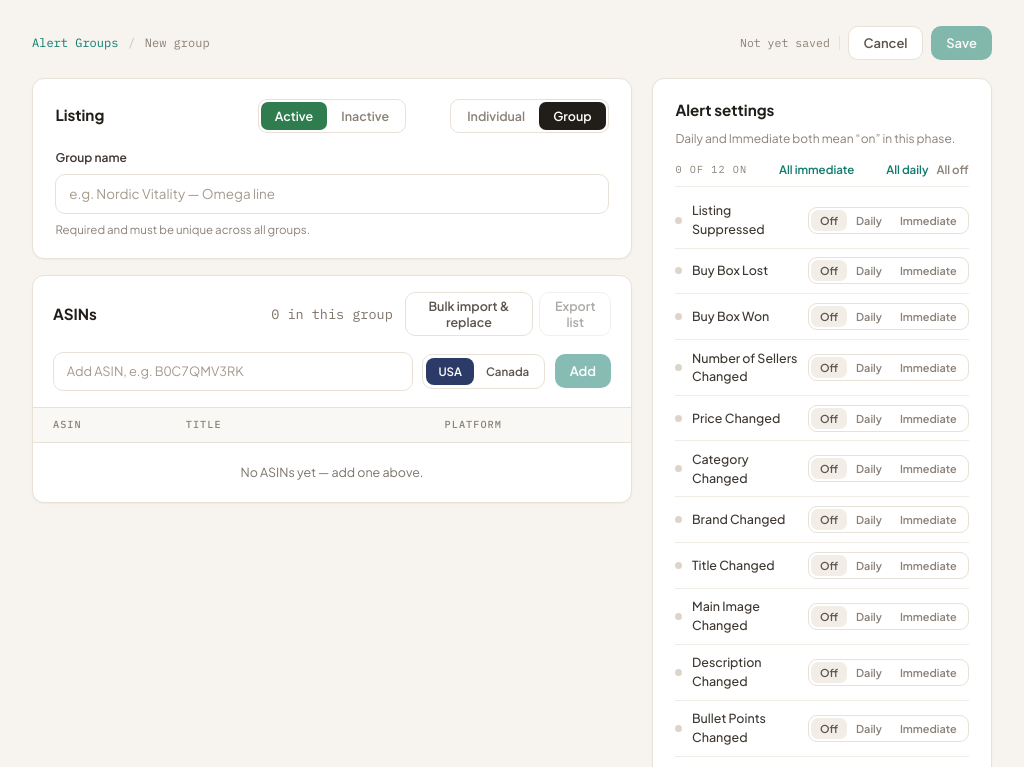
Test: ExclusivesEditorPage — a new group › checks an ASIN against the seller account before adding it
The width and height of the screenshot is (1024, 767).
Type "b000000001" into the field labelled "Add ASIN" at (233, 371), box x1=53 y1=352 x2=413 y2=391
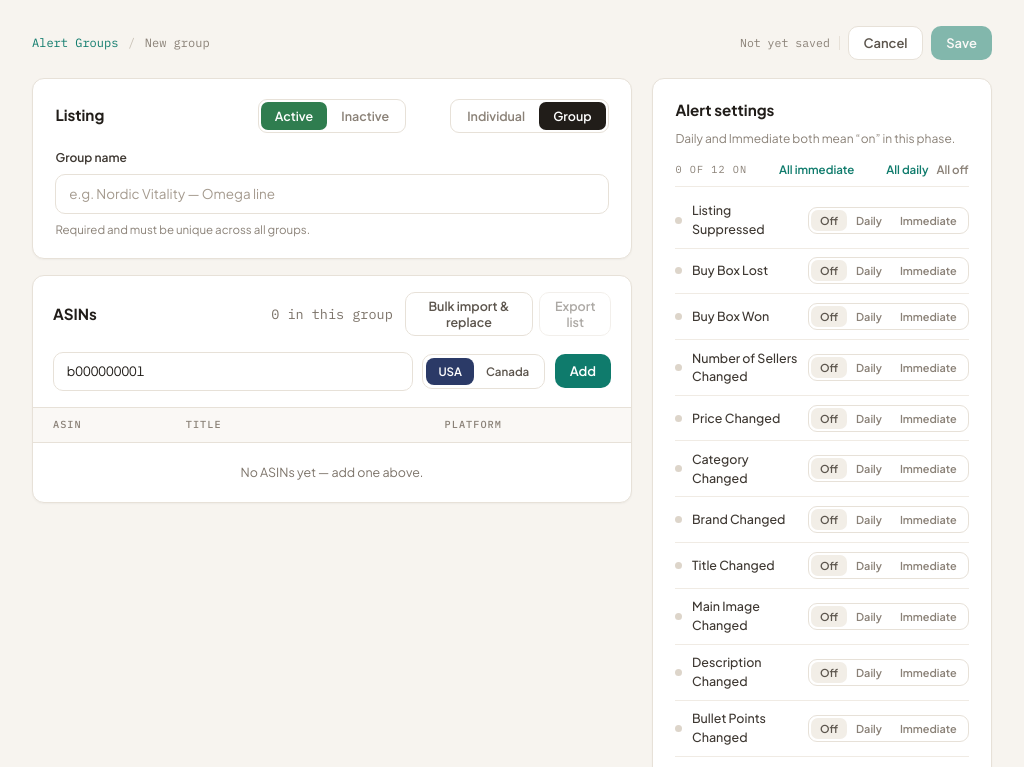
Click the button "Add" at (583, 371), box x1=555 y1=354 x2=611 y2=388
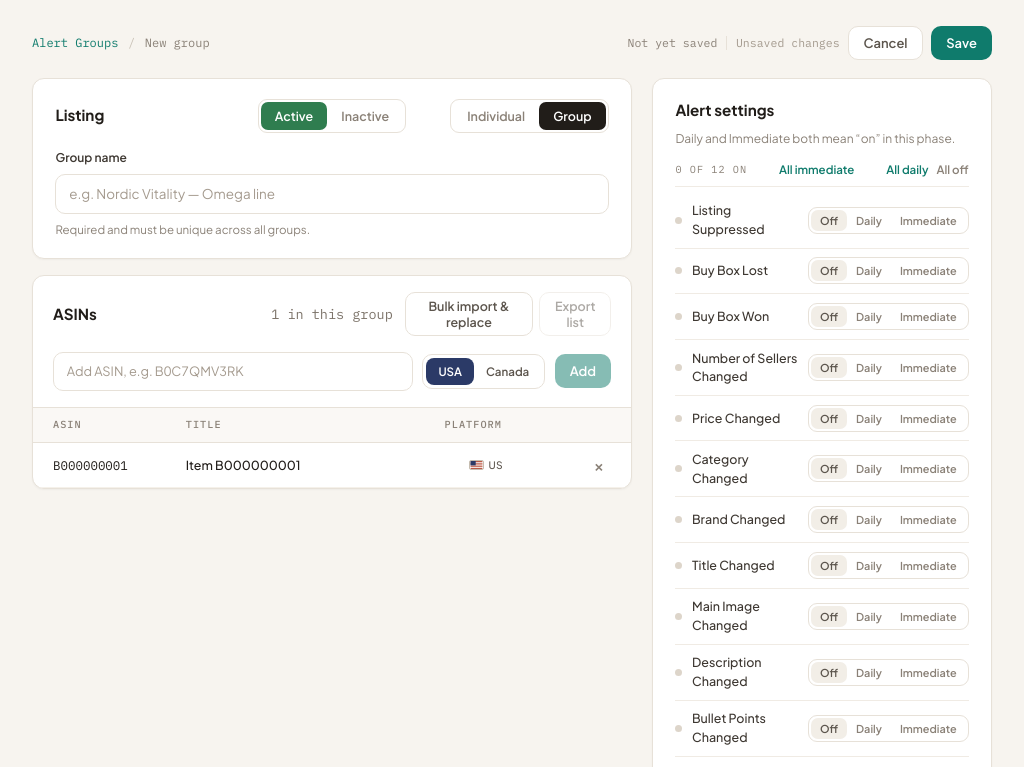
Check: the text "B000000001" is shown, box x1=53 y1=457 x2=128 y2=473
Check: the text "Item B000000001" is shown, box x1=186 y1=457 x2=301 y2=473
